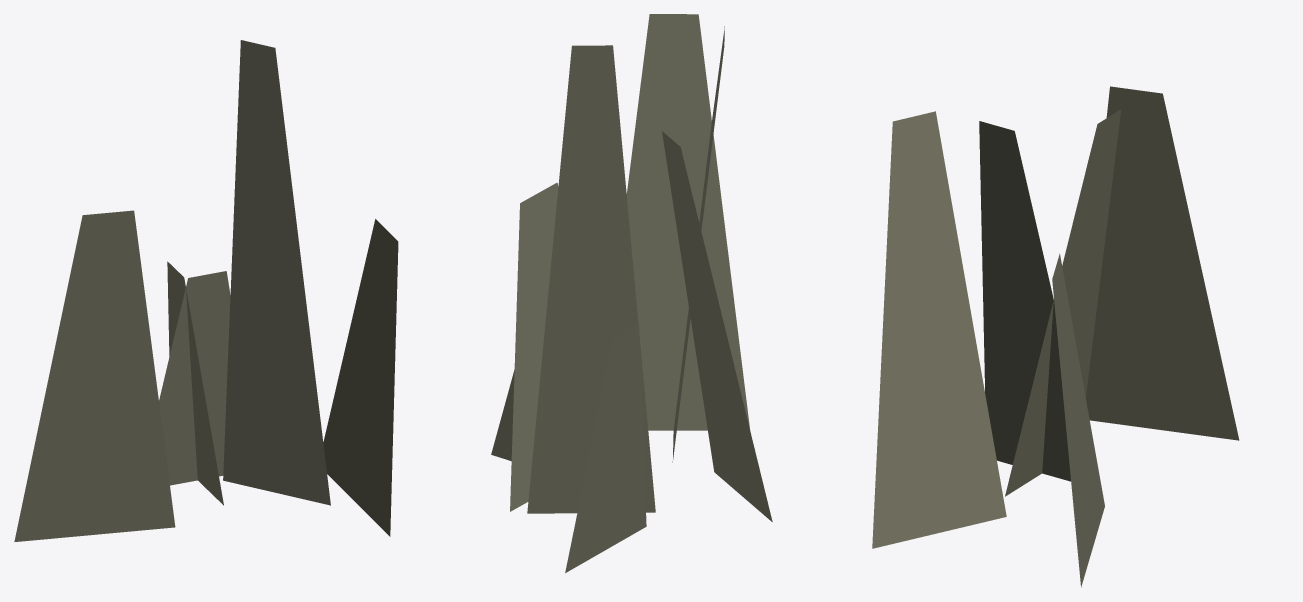
The model's file is cao.jue@flowering__winter.glb.
3 renders of one model, left to right at view 1: azimuth 30°, elevation 25°; view 2: azimuth 150°, elevation 25°; view 3: azimuth 270°, elevation 25°, orthographic. The views are drawn at different scales.
Parts seen in each view (by area): view 1: cao.jue@flowering__winter; view 2: cao.jue@flowering__winter; view 3: cao.jue@flowering__winter.
Part boxes in pixels (x1=…): cao.jue@flowering__winter: x1=14, y1=40, x2=398, y2=541; cao.jue@flowering__winter: x1=491, y1=14, x2=772, y2=573; cao.jue@flowering__winter: x1=872, y1=86, x2=1239, y2=587.
Size of the model in its own units: 0.9659 by 1.14 by 0.8791.
